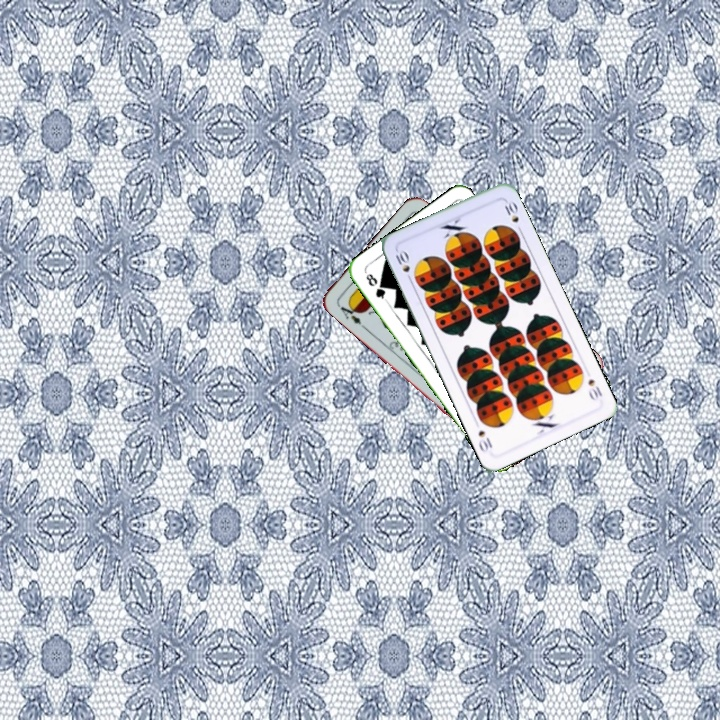EA: (334, 298, 367, 331)
G8: (362, 269, 390, 304)
S10: (391, 246, 415, 285), (584, 375, 605, 403)
